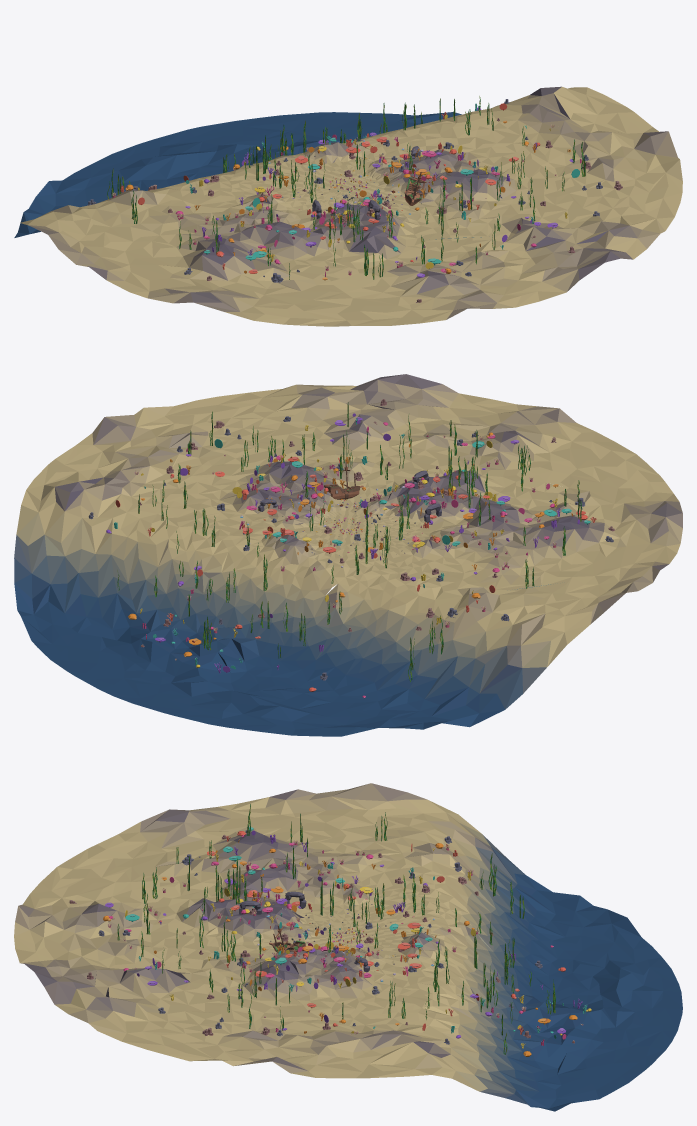
File: world_aquarium.glb
3 views of the same model, one above another, from view 1: azimuth 30°, elevation 25°; view 2: azimuth 150°, elevation 25°; view 3: azimuth 270°, elevation 25° (orthographic).
Parts seen in each view (by area): view 1: Sector1, Sector3, Sector2, Sector0, Sector7, Sector4, Sector6, Sector5; view 2: Sector7, Sector5, Sector4, Sector6, Sector2, Sector1, Sector3, Sector0; view 3: Sector7, Sector1, Sector5, Sector6, Sector3, Sector2, Sector0, Sector4.
Part boxes in pixels (x1,y1,x2,y2): Sector1: (254, 185, 514, 326); Sector3: (349, 112, 682, 223); Sector2: (349, 157, 674, 307); Sector0: (59, 168, 348, 320); Sector7: (14, 150, 347, 253); Sector4: (349, 86, 634, 184); Sector6: (24, 129, 347, 214); Sector5: (188, 112, 452, 185); Sector7: (349, 506, 637, 727); Sector5: (21, 506, 347, 715); Sector4: (14, 459, 347, 632); Sector6: (175, 526, 440, 736); Sector2: (250, 374, 518, 526); Sector1: (349, 404, 673, 526); Sector3: (55, 392, 347, 526); Sector0: (349, 489, 682, 591); Sector7: (331, 783, 579, 936); Sector1: (14, 834, 347, 943); Sector5: (349, 923, 682, 1103); Sector6: (349, 874, 682, 1008); Sector3: (121, 925, 362, 1078); Sector2: (14, 914, 347, 1041); Sector0: (118, 789, 359, 936); Sector4: (338, 921, 575, 1111).
Bounding box in the file's own units: 300 × 56.9 × 300.
